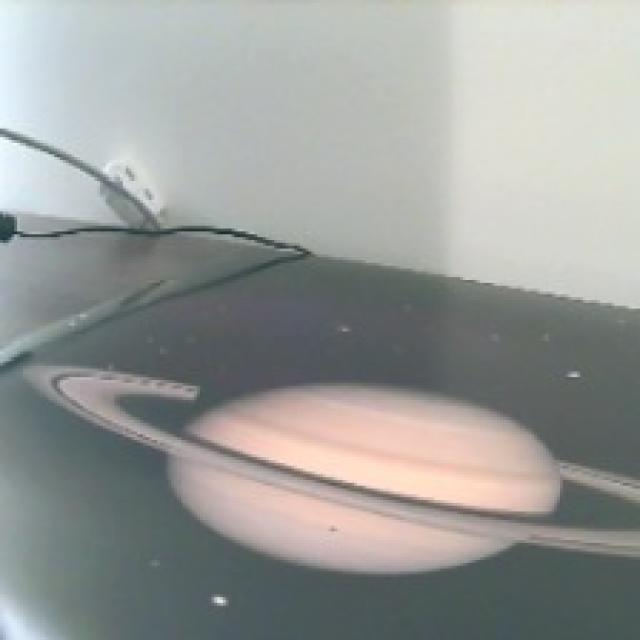Saturn: (17, 352, 640, 572)
